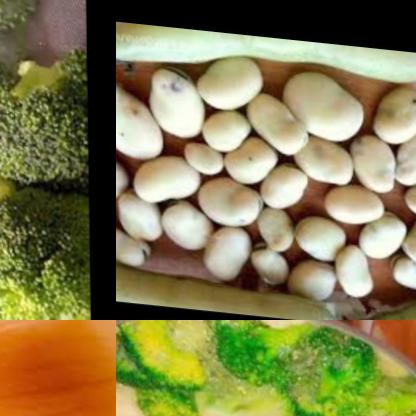beans: (116, 57, 416, 300), (116, 21, 416, 88), (116, 261, 340, 320), (331, 222, 416, 320)
broccoli: (0, 0, 89, 320), (116, 320, 385, 416), (346, 371, 416, 416)
cayliflower: (116, 375, 152, 416)
onion: (0, 320, 116, 416)
